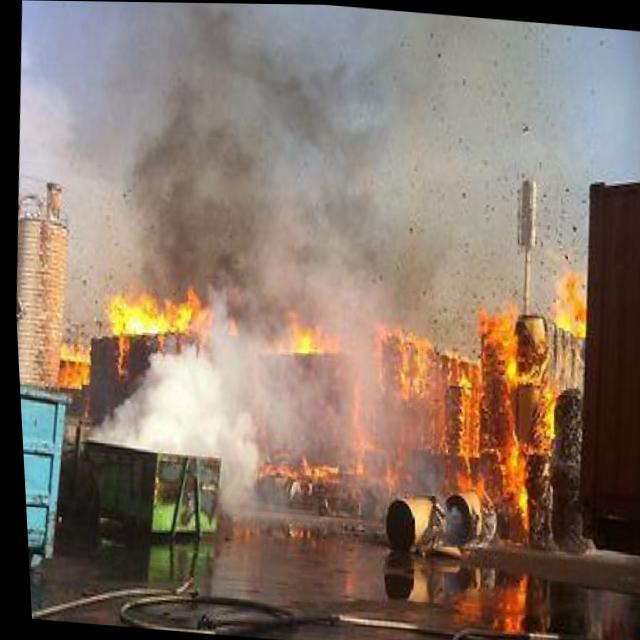fire: (334, 239, 597, 534), (86, 268, 241, 347), (250, 448, 342, 483), (485, 566, 528, 632), (279, 313, 320, 356), (53, 334, 89, 370)
